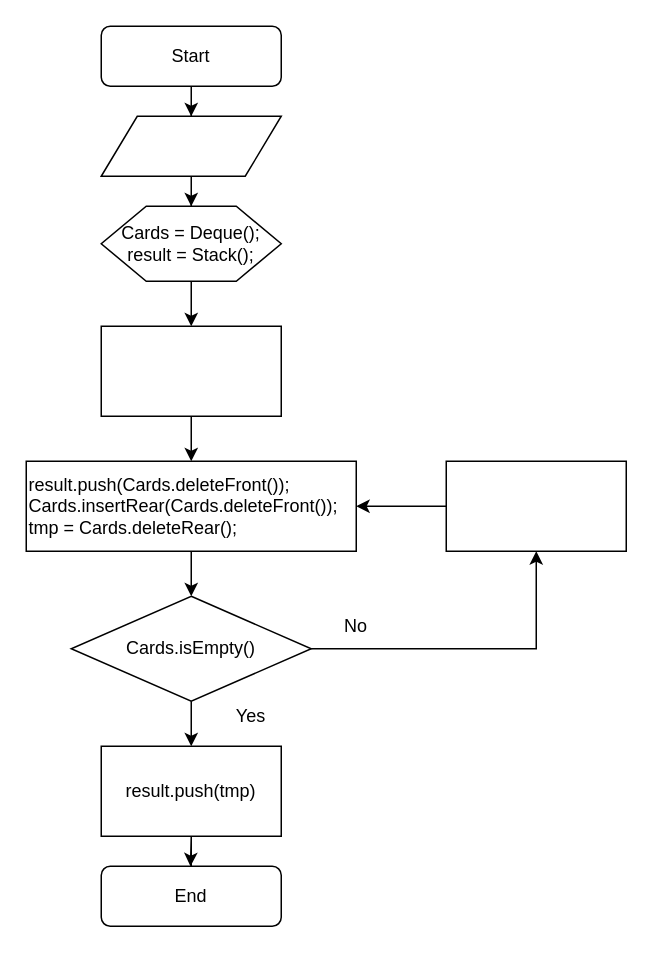
Some shapes in this 653 by 953 pixel diagram are drawn without their labels. Here are the shapes that lost their labels. From the top down, the box of each, then its label:
(100, 115, 281, 176): N = 1 ... 1000
(100, 325, 281, 416): for(int i = N; i > 0; i--){ Cards.insertFront(i); }
(445, 460, 626, 551): Cards.insertRear(tmp)
